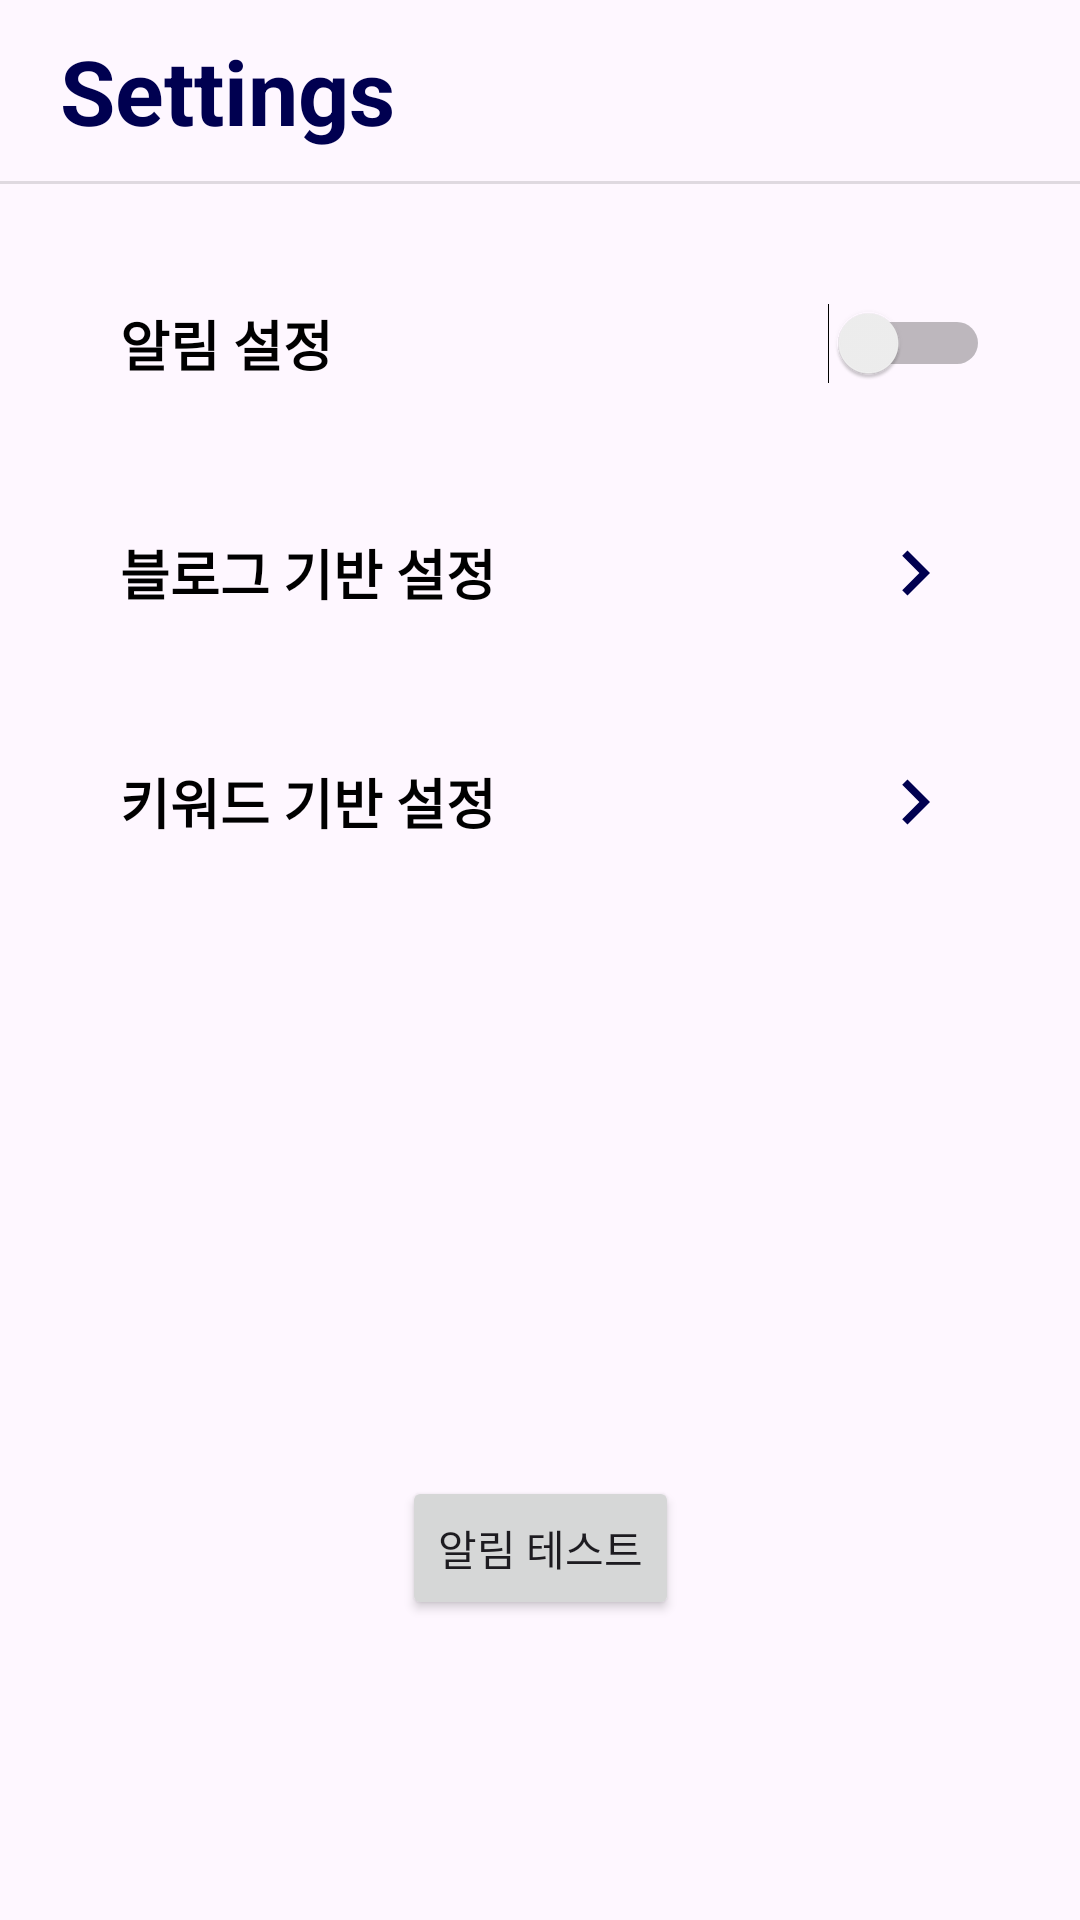

Point at icon controls on the screen. Image size 1080×1920, points as [x,y].
navigate next: [916,573], [916,802]
